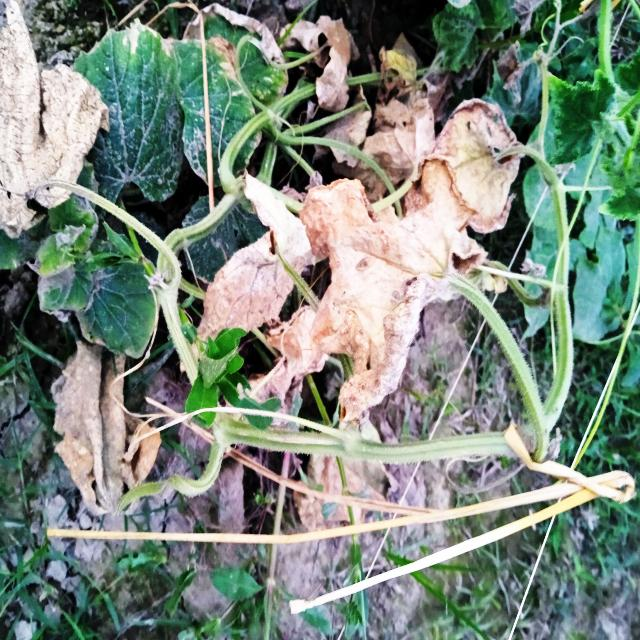Bacterial-Wilt: (297, 152, 489, 425), (1, 0, 113, 238), (192, 169, 315, 344), (48, 337, 165, 520)
